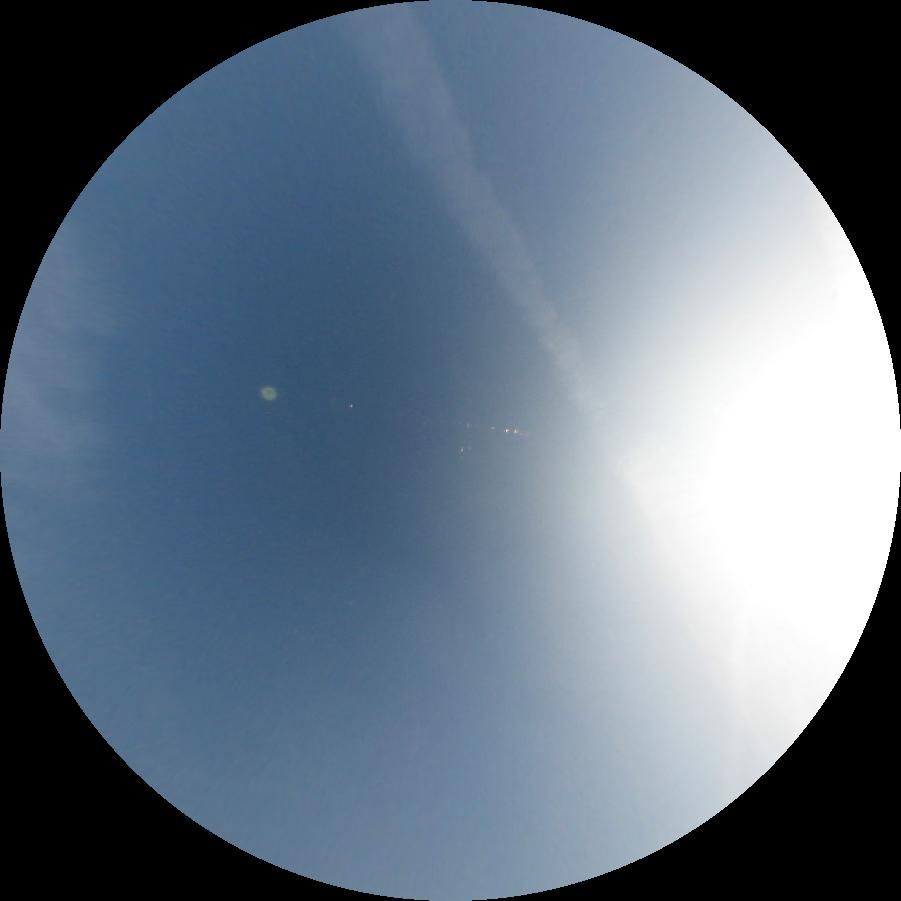contrail veryold: (338, 3, 694, 570)
sun: (707, 347, 900, 555)
